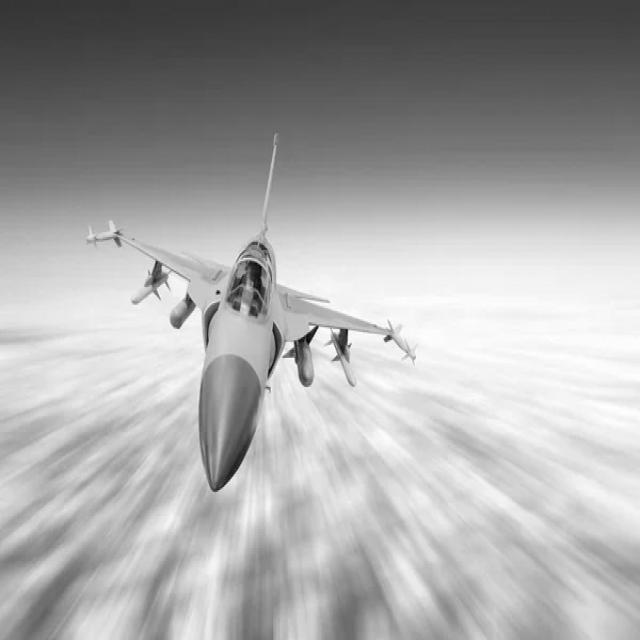Aircraft: (88, 138, 418, 494)
